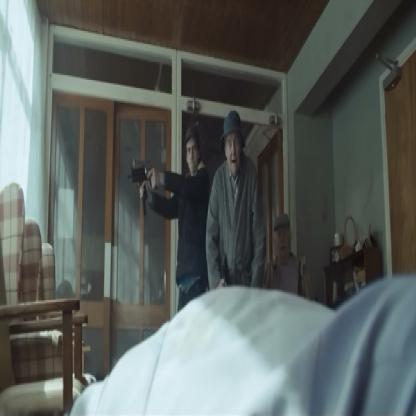Gun: (124, 153, 157, 217)
